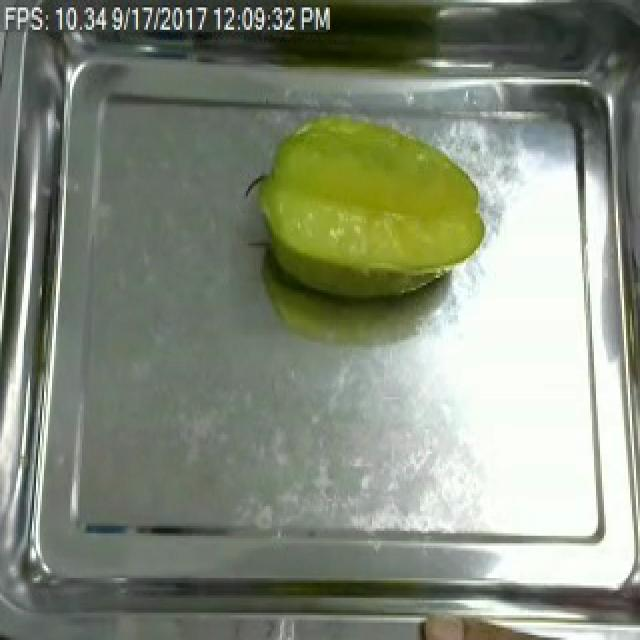fruit: (242, 106, 492, 292)
